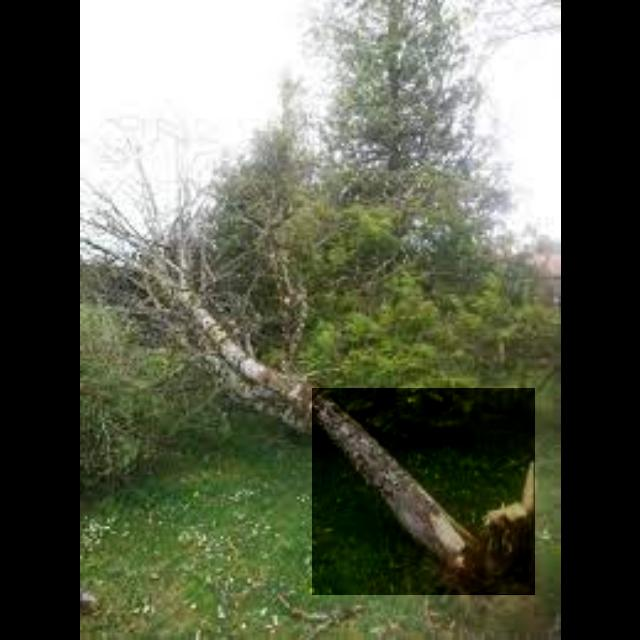Fallen Tree: (312, 388, 536, 596)
